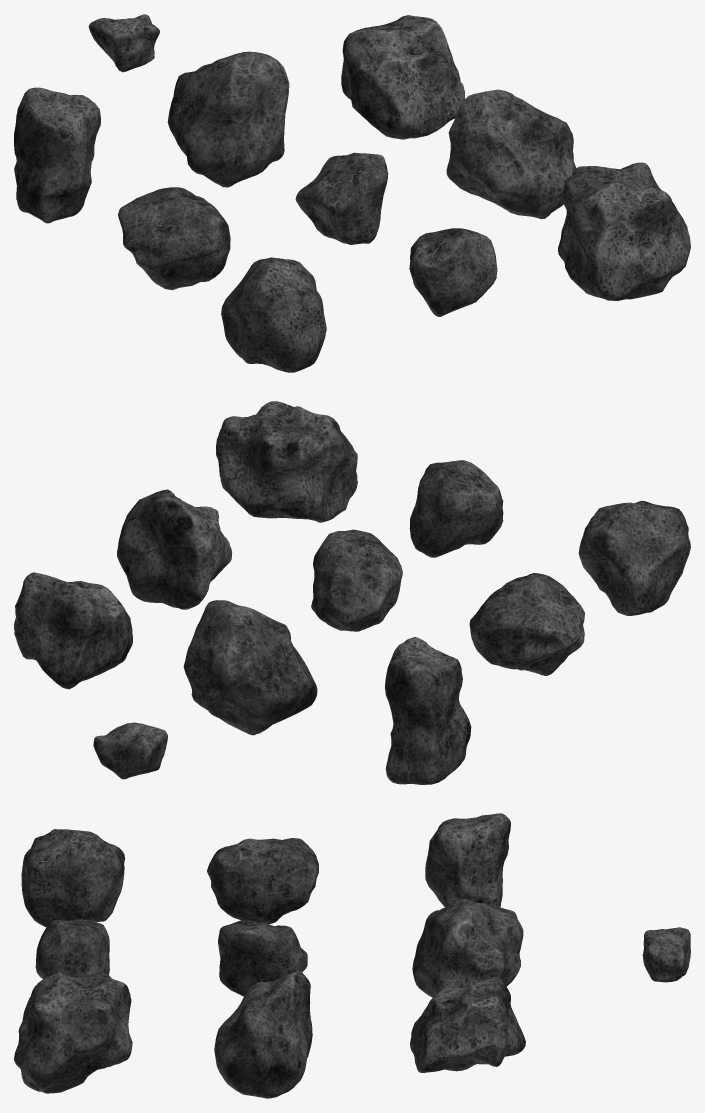
File: asteroids.glb
3 renders of one model, top to bottom at view 1: azimuth 30°, elevation 25°; view 2: azimuth 150°, elevation 25°; view 3: azimuth 270°, elevation 25°, orthographic. The views are drawn at different scales.
Visible parts, largest first — view 1: Asteroid_no_1_Material #3_0, Asteroid_no_8_Material #3_0, Asteroid_no_4_Material #3_0, Asteroid_no_7_Material #3_0, Asteroid_no_9_Material #3_0, Asteroid_no_3_Material #3_0, Asteroid_no_6_Material #3_0, Asteroid_no_5_Material #3_0, Asteroid_no_2_Material #3_0, Asteroid_no_10_Material #3_0; view 2: Asteroid_no_1_Material #3_0, Asteroid_no_8_Material #3_0, Asteroid_no_7_Material #3_0, Asteroid_no_9_Material #3_0, Asteroid_no_4_Material #3_0, Asteroid_no_3_Material #3_0, Asteroid_no_6_Material #3_0, Asteroid_no_5_Material #3_0, Asteroid_no_2_Material #3_0, Asteroid_no_10_Material #3_0; view 3: Asteroid_no_1_Material #3_0, Asteroid_no_4_Material #3_0, Asteroid_no_3_Material #3_0, Asteroid_no_8_Material #3_0, Asteroid_no_7_Material #3_0, Asteroid_no_6_Material #3_0, Asteroid_no_9_Material #3_0, Asteroid_no_5_Material #3_0, Asteroid_no_2_Material #3_0, Asteroid_no_10_Material #3_0.
Part boxes in pixels (x1=…): Asteroid_no_1_Material #3_0: x1=558, y1=162, x2=690, y2=301; Asteroid_no_8_Material #3_0: x1=167, y1=51, x2=289, y2=187; Asteroid_no_4_Material #3_0: x1=446, y1=89, x2=576, y2=219; Asteroid_no_7_Material #3_0: x1=341, y1=15, x2=464, y2=139; Asteroid_no_9_Material #3_0: x1=14, y1=87, x2=100, y2=223; Asteroid_no_3_Material #3_0: x1=221, y1=257, x2=326, y2=372; Asteroid_no_6_Material #3_0: x1=118, y1=187, x2=230, y2=290; Asteroid_no_5_Material #3_0: x1=295, y1=152, x2=388, y2=244; Asteroid_no_2_Material #3_0: x1=409, y1=228, x2=497, y2=316; Asteroid_no_10_Material #3_0: x1=88, y1=14, x2=159, y2=72; Asteroid_no_1_Material #3_0: x1=216, y1=401, x2=357, y2=522; Asteroid_no_8_Material #3_0: x1=183, y1=600, x2=317, y2=735; Asteroid_no_7_Material #3_0: x1=14, y1=572, x2=132, y2=689; Asteroid_no_9_Material #3_0: x1=385, y1=637, x2=471, y2=784; Asteroid_no_4_Material #3_0: x1=117, y1=489, x2=232, y2=609; Asteroid_no_3_Material #3_0: x1=578, y1=500, x2=690, y2=615; Asteroid_no_6_Material #3_0: x1=469, y1=573, x2=584, y2=675; Asteroid_no_5_Material #3_0: x1=311, y1=529, x2=402, y2=631; Asteroid_no_2_Material #3_0: x1=409, y1=460, x2=503, y2=557; Asteroid_no_10_Material #3_0: x1=93, y1=722, x2=167, y2=779; Asteroid_no_1_Material #3_0: x1=14, y1=972, x2=132, y2=1093; Asteroid_no_4_Material #3_0: x1=214, y1=971, x2=312, y2=1098; Asteroid_no_3_Material #3_0: x1=21, y1=829, x2=125, y2=927; Asteroid_no_8_Material #3_0: x1=412, y1=899, x2=523, y2=997; Asteroid_no_7_Material #3_0: x1=410, y1=977, x2=525, y2=1072; Asteroid_no_6_Material #3_0: x1=207, y1=838, x2=318, y2=923; Asteroid_no_9_Material #3_0: x1=425, y1=813, x2=510, y2=907; Asteroid_no_5_Material #3_0: x1=218, y1=920, x2=307, y2=996; Asteroid_no_2_Material #3_0: x1=35, y1=919, x2=109, y2=978; Asteroid_no_10_Material #3_0: x1=642, y1=927, x2=690, y2=982.
Bounding box in the file's own units: 34.3 × 9.09 × 48.14.
Materials: 1 (1 with a texture image).
